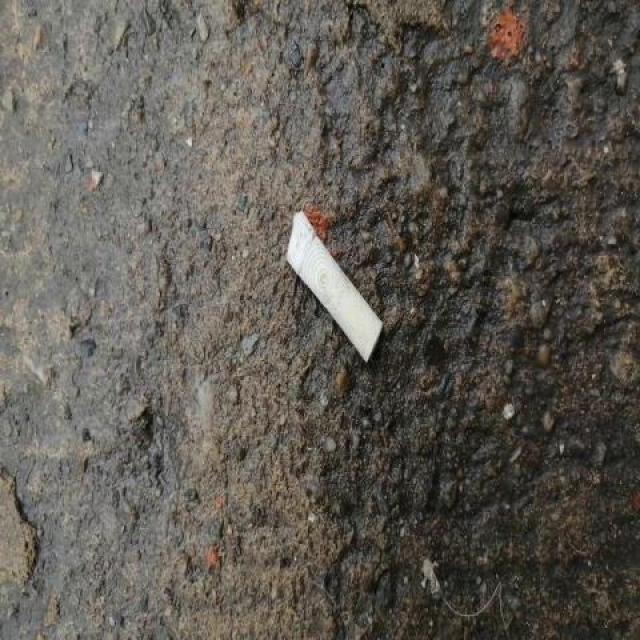non-organic waste: (283, 206, 388, 370)
